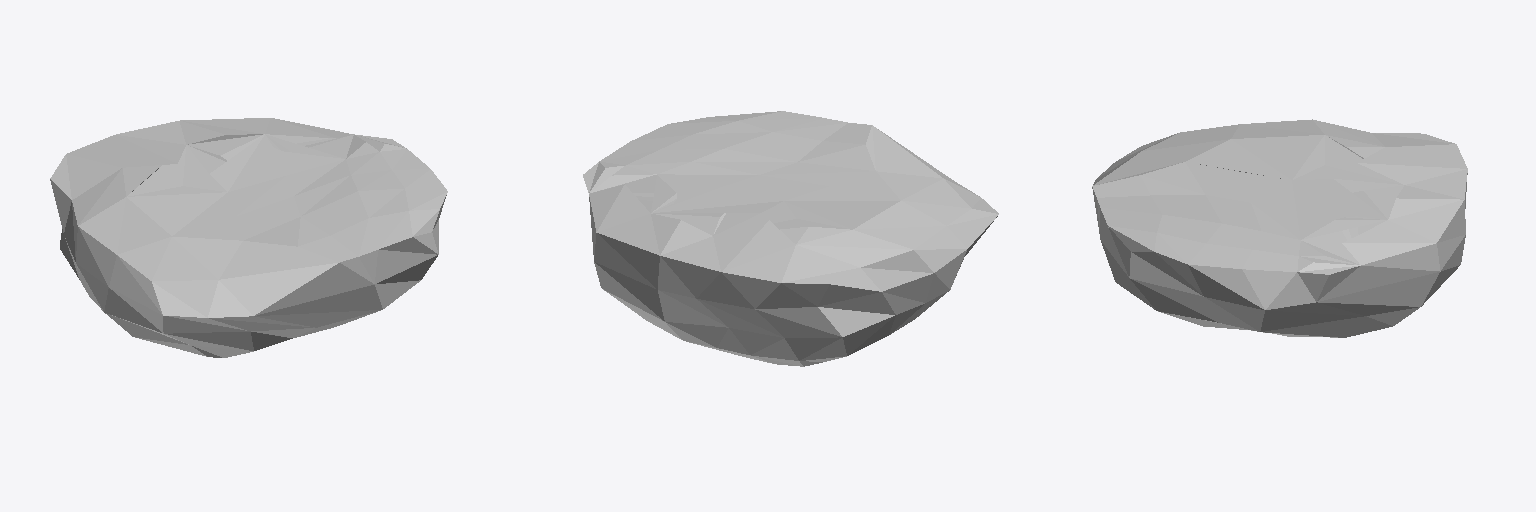
Rendered from Island3.obj.
3 renders of one model, left to right at view 1: azimuth 30°, elevation 25°; view 2: azimuth 150°, elevation 25°; view 3: azimuth 270°, elevation 25°, orthographic.
Visible parts, largest first — view 1: Cube; view 2: Cube; view 3: Cube.
Boxes of the visible parts, box(x1,y1,x2,y2) form: Cube: box(50, 118, 447, 357); Cube: box(583, 111, 998, 366); Cube: box(1092, 119, 1467, 337).
Size of the model in its own units: 5.24 by 2.13 by 4.92.